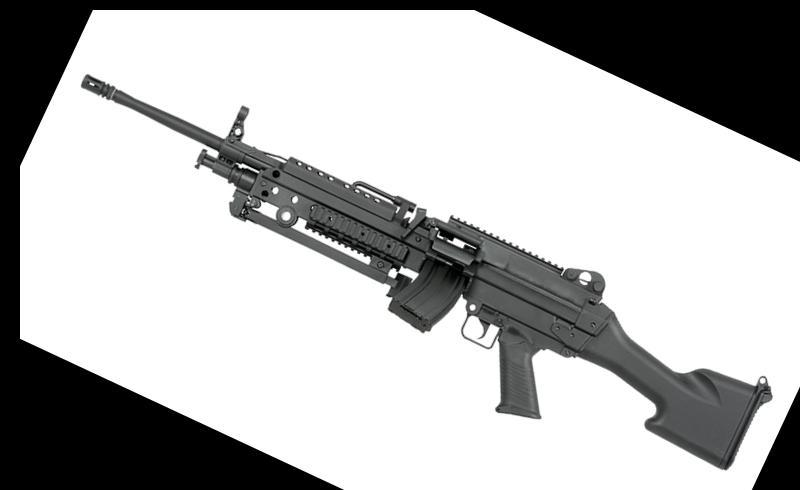larga: (80, 73, 774, 471)
